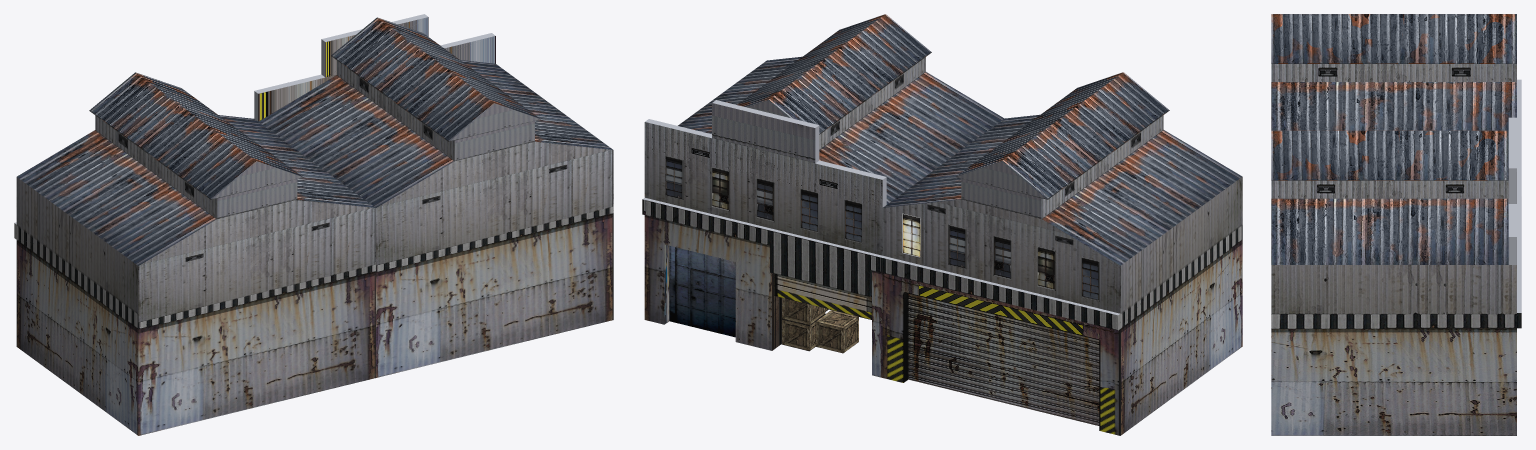
3 renders of one model, left to right at view 1: azimuth 30°, elevation 25°; view 2: azimuth 150°, elevation 25°; view 3: azimuth 270°, elevation 25°, orthographic.
Parts seen in each view (by area): view 1: pasted__polySurface13_FishFactory_0.003; view 2: pasted__polySurface13_FishFactory_0.003; view 3: pasted__polySurface13_FishFactory_0.003.
Boxes of the visible parts, x1,y1,x2,y2 form: pasted__polySurface13_FishFactory_0.003: [14, 14, 613, 435]; pasted__polySurface13_FishFactory_0.003: [642, 14, 1242, 435]; pasted__polySurface13_FishFactory_0.003: [1271, 14, 1521, 435].
Size of the model in its own units: 18 by 8.88 by 8.15.
Materials: 2 (2 with a texture image).
